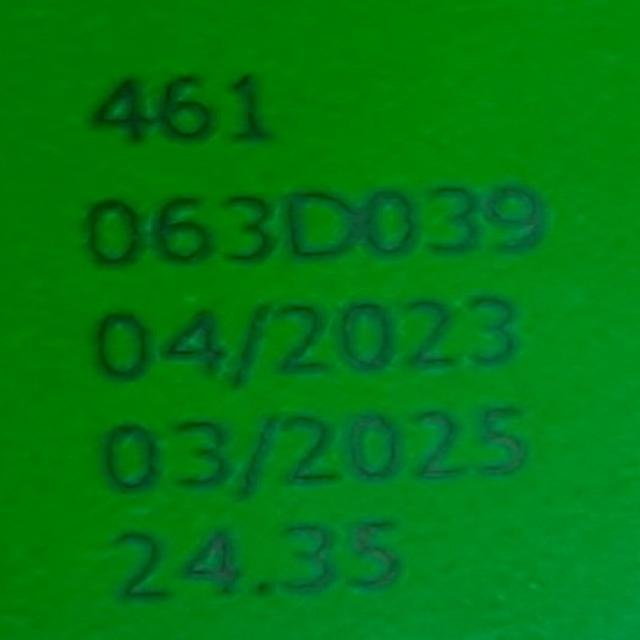sentence: (93, 292, 520, 387), (101, 404, 528, 499), (85, 182, 544, 266), (111, 520, 404, 601), (93, 74, 270, 142)
